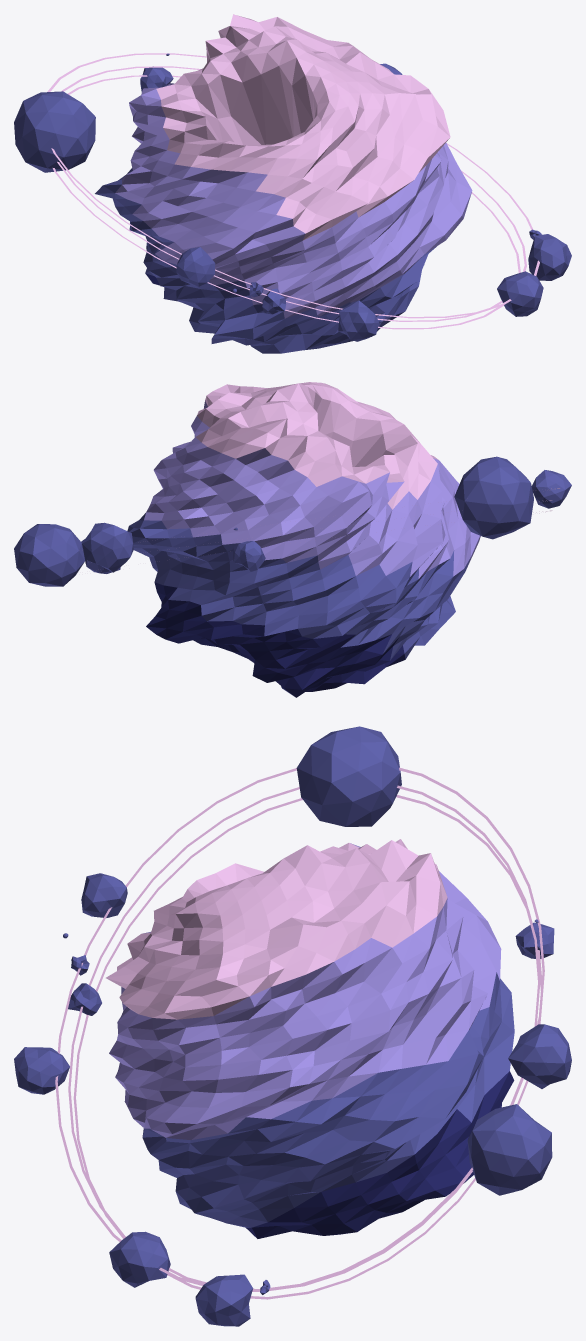
The model's file is NC_Planet.fbx.
The picture shows the model from 3 angles, top to bottom: view 1: azimuth 30°, elevation 25°; view 2: azimuth 150°, elevation 25°; view 3: azimuth 270°, elevation 25°; orthographic projection. The views are drawn at different scales.
Parts seen in each view (by area): view 1: NC_Planet, Asteroids; view 2: NC_Planet, Asteroids; view 3: NC_Planet, Asteroids.
Boxes of the visible parts, x1,y1,x2,y2 form: NC_Planet: (47, 14, 539, 353); Asteroids: (14, 53, 571, 341); NC_Planet: (96, 382, 559, 697); Asteroids: (14, 456, 571, 586); NC_Planet: (55, 767, 544, 1299); Asteroids: (14, 726, 571, 1326).
Size of the model in its own units: 1546 by 864 by 1189.
Materials: 1 (1 with a texture image).
